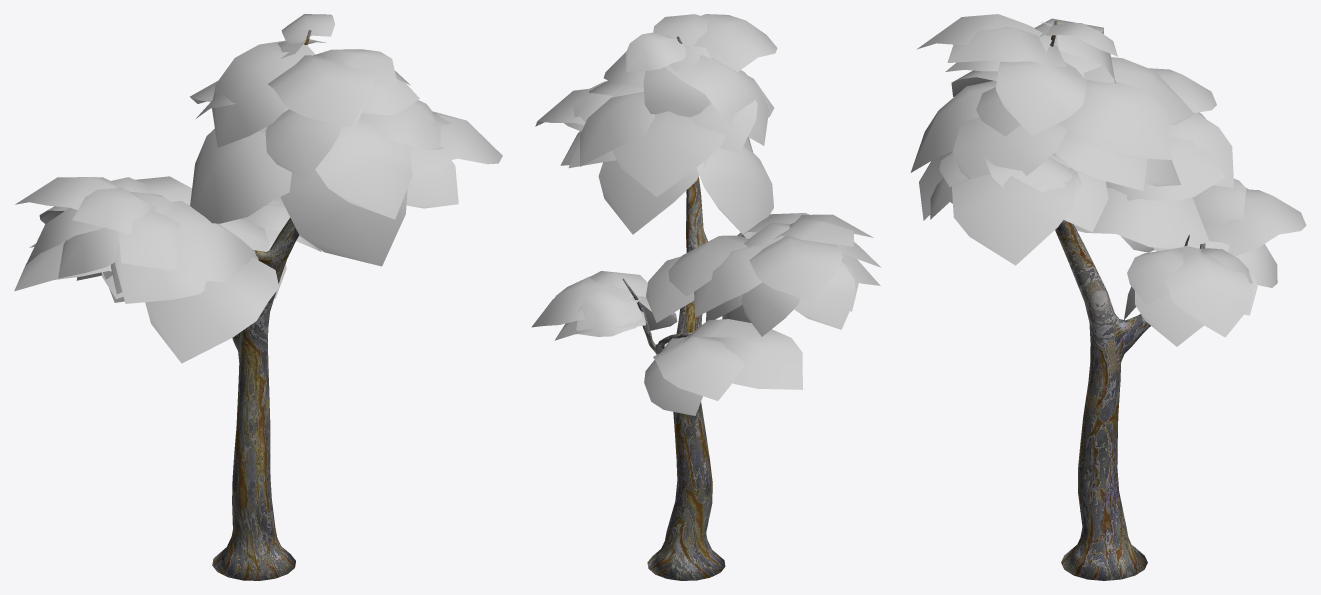
The model's file is Tree.fbx.
The picture shows the model from 3 angles, left to right: view 1: azimuth 30°, elevation 25°; view 2: azimuth 150°, elevation 25°; view 3: azimuth 270°, elevation 25°; orthographic projection. The views are drawn at different scales.
Parts seen in each view (by area): view 1: Leaves, Tree; view 2: Leaves, Tree; view 3: Leaves, Tree.
Boxes of the visible parts, x1,y1,x2,y2 form: Leaves: (14,14,502,363); Tree: (212,30,311,580); Leaves: (531,14,881,415); Tree: (622,36,725,580); Leaves: (910,14,1306,346); Tree: (1050,21,1205,580).
Bounding box in the file's own units: 524 × 675 × 432.
